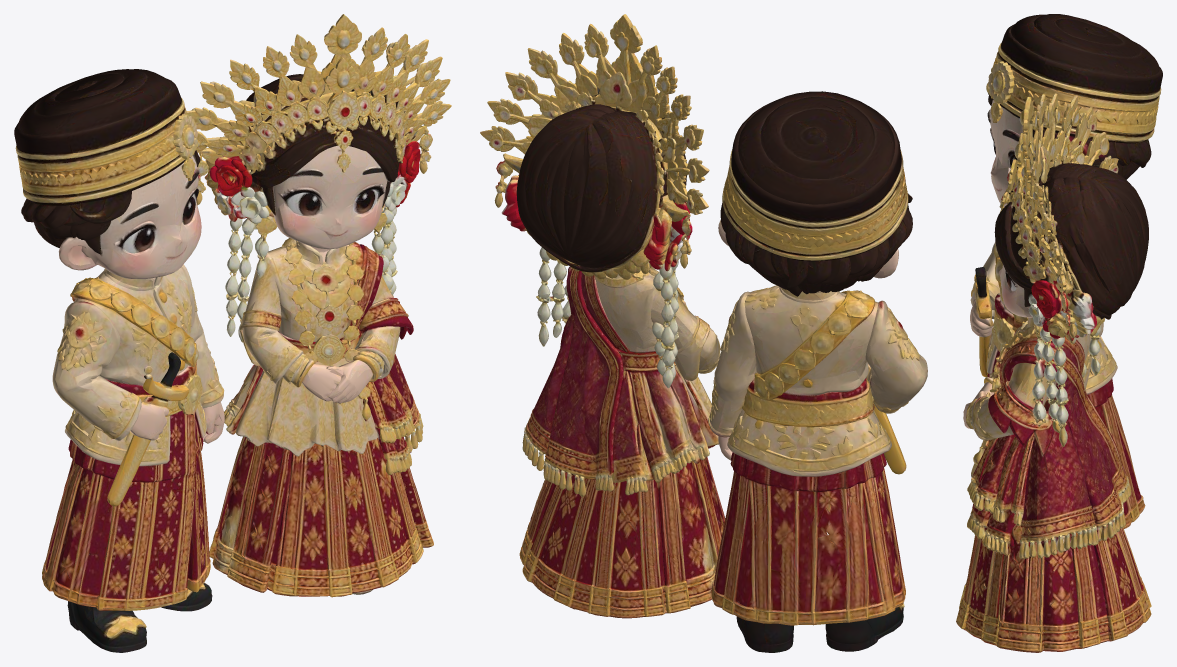
File: couple.glb
3 renders of one model, left to right at view 1: azimuth 30°, elevation 25°; view 2: azimuth 150°, elevation 25°; view 3: azimuth 270°, elevation 25°, orthographic. The views are drawn at different scales.
Visible parts, largest first — view 1: output_unwrapped; view 2: output_unwrapped; view 3: output_unwrapped.
Part boxes in pixels (left/top/right/bottom): output_unwrapped: left=14, top=14, right=451, bottom=652; output_unwrapped: left=480, top=14, right=927, bottom=652; output_unwrapped: left=956, top=14, right=1162, bottom=652.
Bounding box in the file's own units: 1.5 × 1.9 × 0.6646.
1 material, 1 textured.
